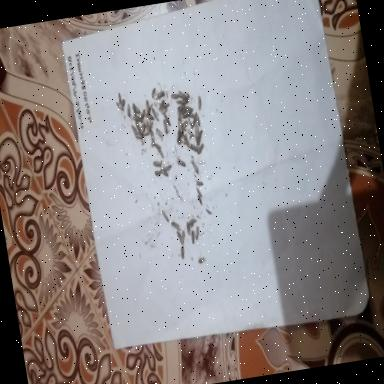pbw: (174, 127, 184, 146), (194, 94, 204, 112), (169, 219, 181, 233), (175, 228, 184, 246), (178, 228, 188, 244), (160, 208, 170, 224), (174, 156, 186, 169), (176, 112, 183, 134), (195, 142, 206, 156), (154, 127, 164, 142), (154, 89, 166, 101), (161, 118, 169, 136), (148, 130, 156, 148), (178, 242, 186, 260), (183, 219, 191, 237), (193, 225, 201, 242), (192, 122, 200, 139), (196, 130, 204, 146), (163, 111, 171, 127), (188, 229, 196, 245), (117, 98, 126, 112), (188, 118, 197, 132), (188, 142, 198, 154), (194, 111, 201, 128), (156, 146, 164, 160), (125, 102, 132, 118), (151, 108, 159, 122), (134, 118, 141, 134), (182, 134, 190, 148), (187, 217, 198, 227), (144, 111, 154, 122), (130, 124, 139, 136), (152, 158, 162, 168), (163, 162, 173, 172), (179, 97, 190, 106), (177, 90, 186, 101), (156, 100, 165, 111), (149, 86, 157, 98), (146, 103, 154, 115), (138, 108, 146, 120), (153, 141, 162, 151), (160, 167, 168, 178), (180, 119, 188, 130), (131, 102, 137, 116), (195, 186, 202, 198), (194, 178, 203, 187), (197, 256, 206, 265), (186, 110, 195, 119), (169, 92, 179, 100), (181, 90, 189, 100), (134, 132, 144, 140), (138, 122, 146, 132), (196, 194, 202, 207), (186, 116, 193, 127), (153, 168, 162, 176), (184, 104, 193, 112), (141, 130, 150, 138), (145, 98, 150, 112), (146, 120, 152, 131), (160, 107, 168, 115), (132, 114, 140, 122), (132, 106, 140, 114), (176, 104, 184, 112), (117, 92, 122, 104), (186, 128, 193, 136), (181, 112, 189, 118), (162, 102, 170, 108), (148, 118, 152, 129)
